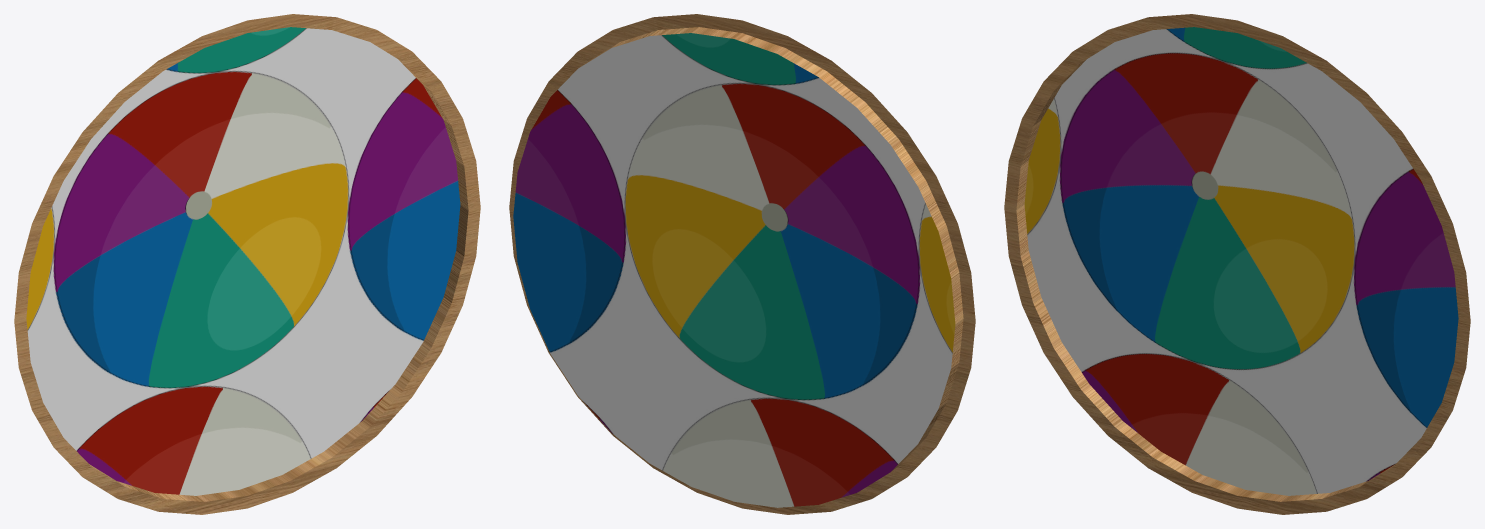
3 views of the same model, side by side, from view 1: azimuth 30°, elevation 25°; view 2: azimuth 150°, elevation 25°; view 3: azimuth 330°, elevation 25° (orthographic).
Visible parts, largest first — view 1: slot_circle; view 2: slot_circle; view 3: slot_circle.
Part boxes in pixels (x1=…): slot_circle: x1=14, y1=14, x2=480, y2=514; slot_circle: x1=509, y1=14, x2=975, y2=514; slot_circle: x1=1004, y1=14, x2=1470, y2=514.
Bounding box in the file's own units: 265 × 265 × 8.
2 materials, 2 textured.
